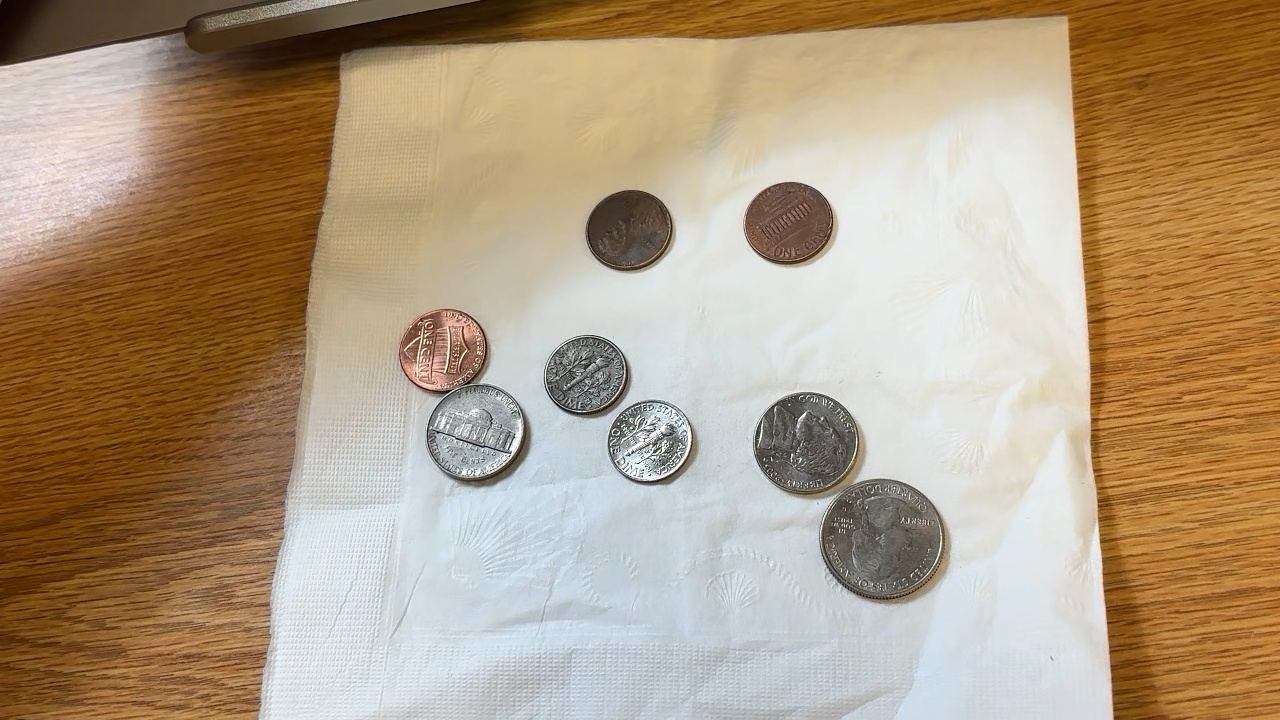dime: (605, 396, 695, 485), (540, 332, 631, 416)
nickel: (753, 390, 860, 496), (424, 384, 530, 482)
penny: (741, 179, 836, 264), (402, 309, 489, 393), (586, 190, 674, 268)
quarter: (819, 477, 949, 601)
